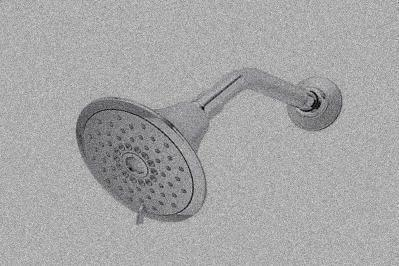Ducha: (64, 35, 352, 236)
